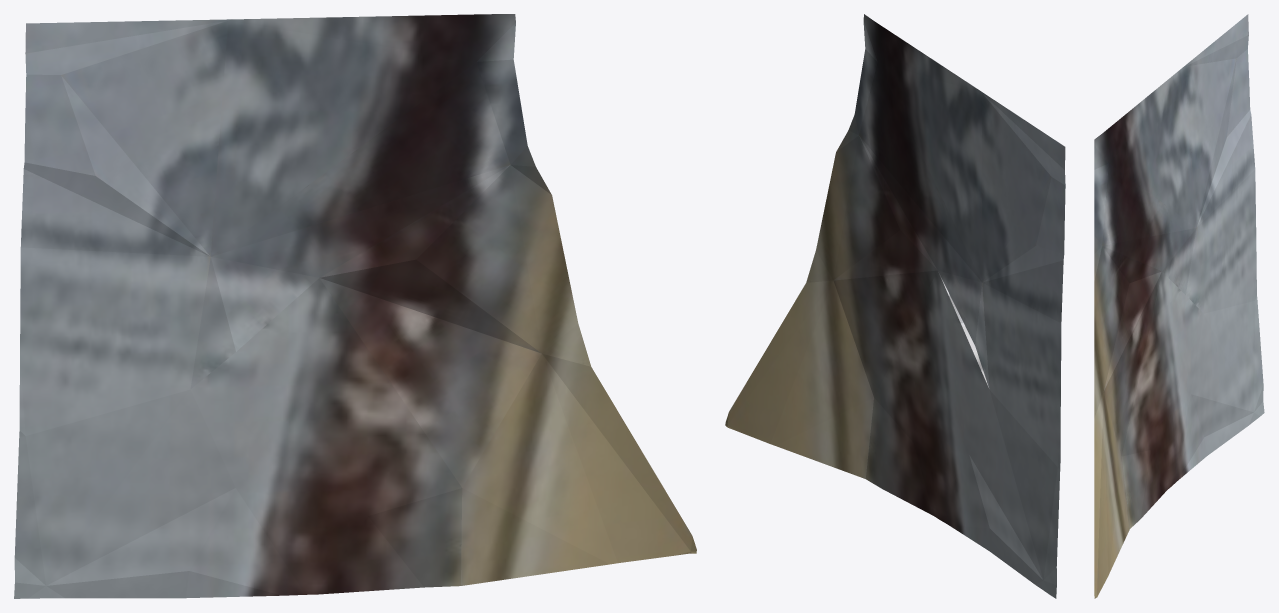
The picture shows the model from 3 angles, left to right: view 1: azimuth 30°, elevation 25°; view 2: azimuth 150°, elevation 25°; view 3: azimuth 270°, elevation 25°; orthographic projection. The views are drawn at different scales.
Size of the model in its own units: 0.8374 by 0.8374 by 0.3237.
2 materials, 2 textured.
